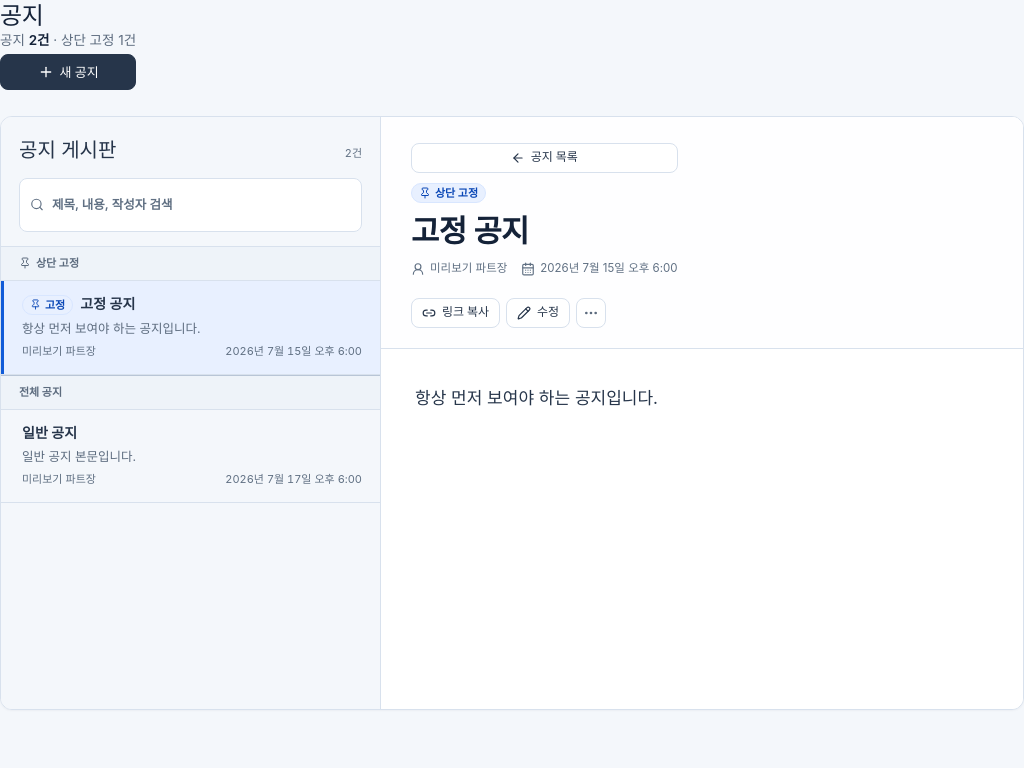
Test: AnnouncementsPanel › selects the notice that was just posted
Expected: the heading "고정 공지" is shown, [411,212,529,249]
Click the button "새 공지" at (68,72), box [0,54,136,90]
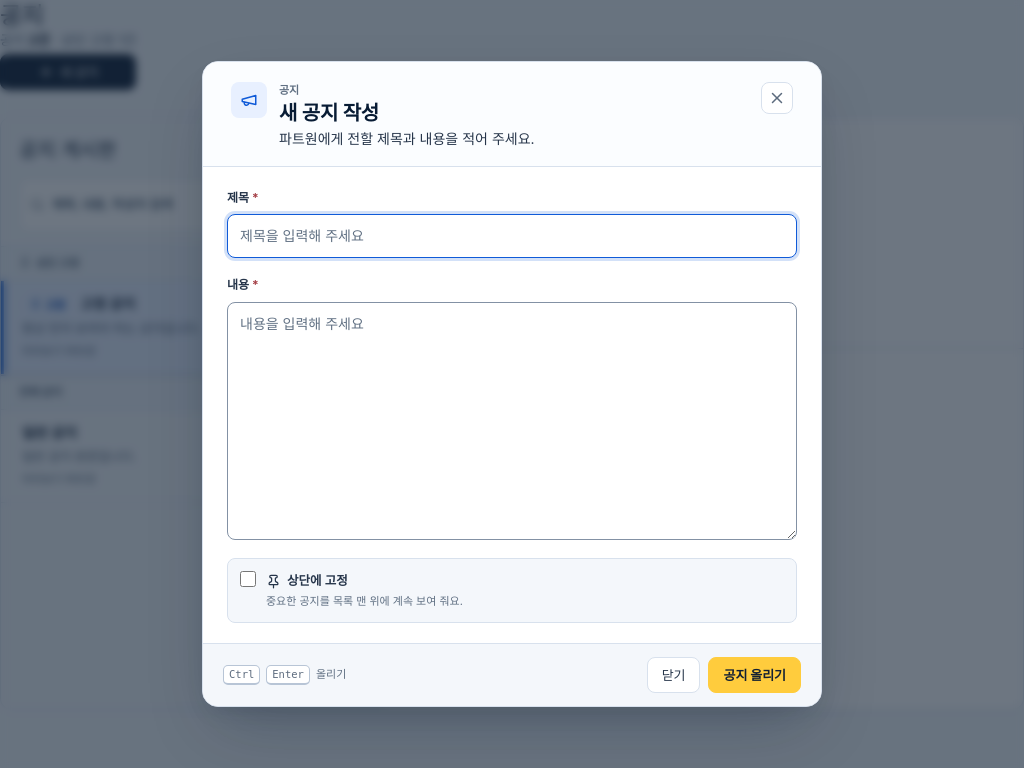
Type "방금 올린 공지" into the field labelled "제목" at (512,236), box [227,214,797,258]
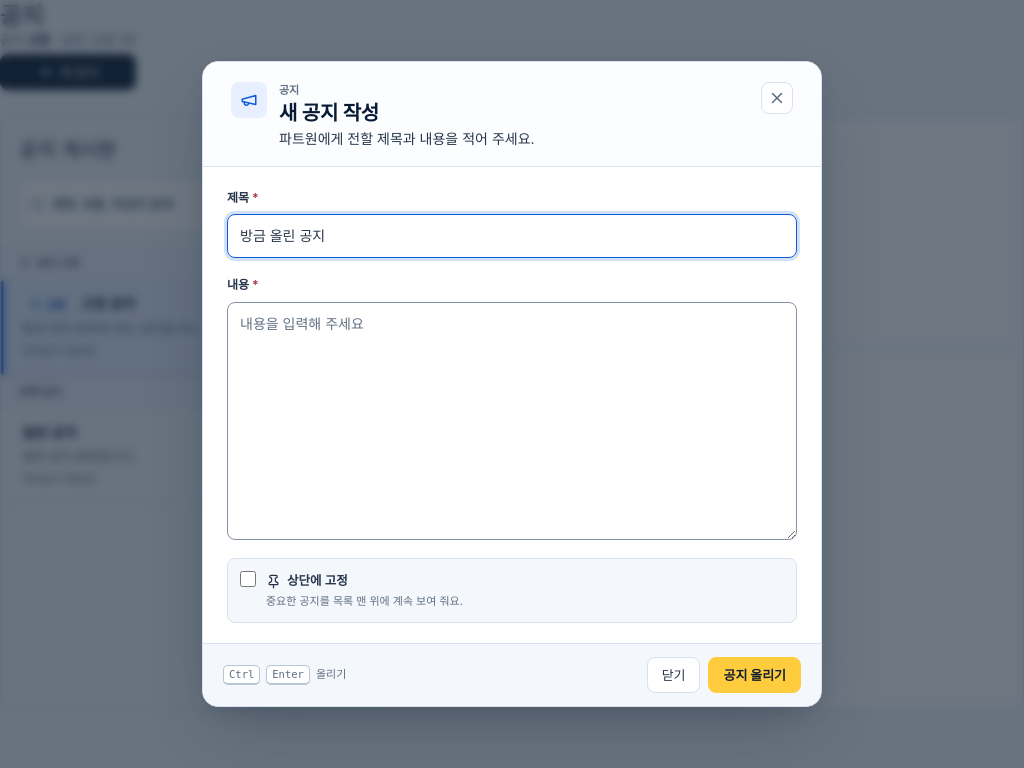
Type "새 공지 본문" into the text box labelled "내용" at (512,421), box [227,302,797,540]
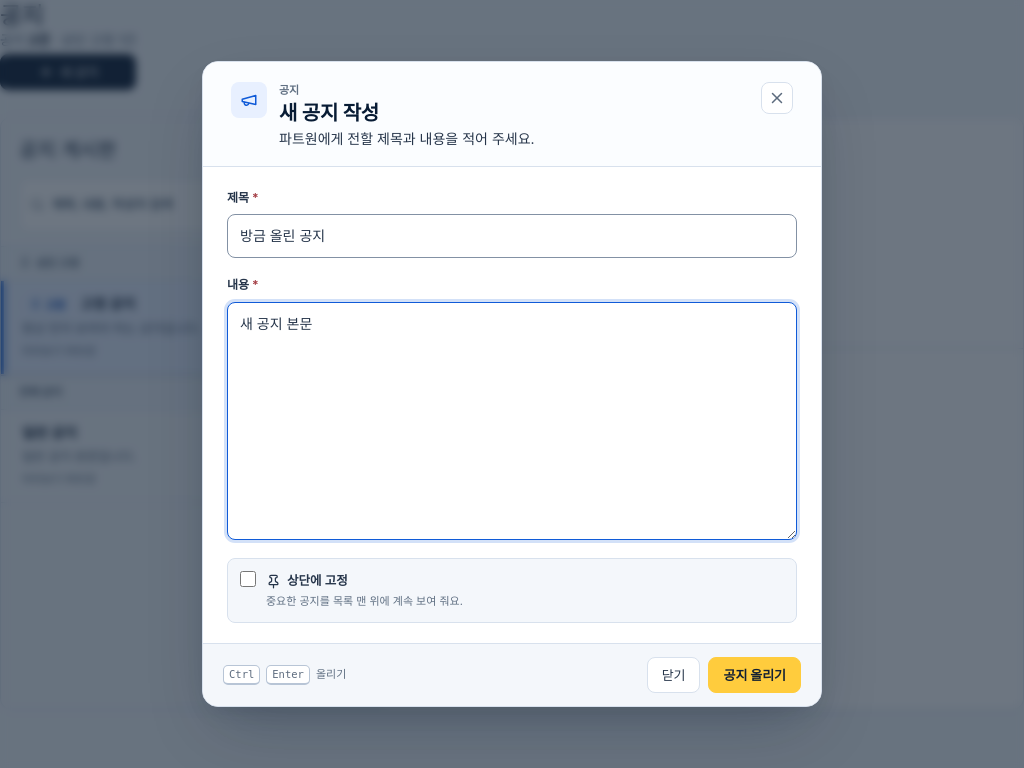
Click the button "공지 올리기" at (755,675), box [708,657,801,693]
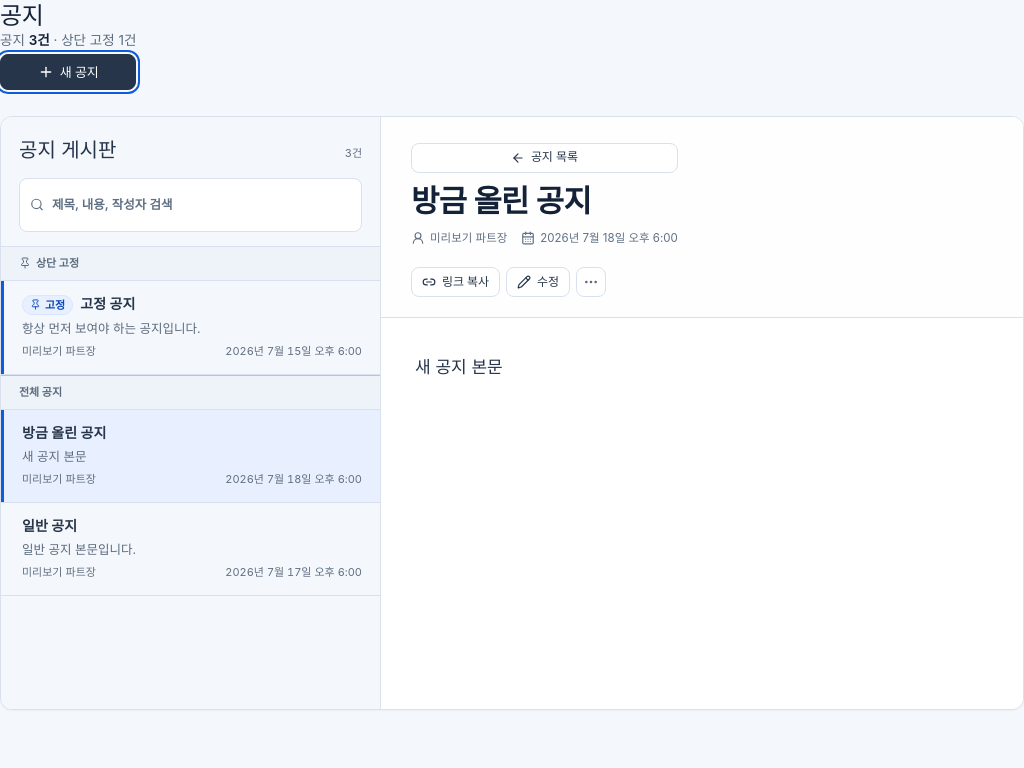
Expected: the heading "방금 올린 공지" is shown, [411,182,591,219]
